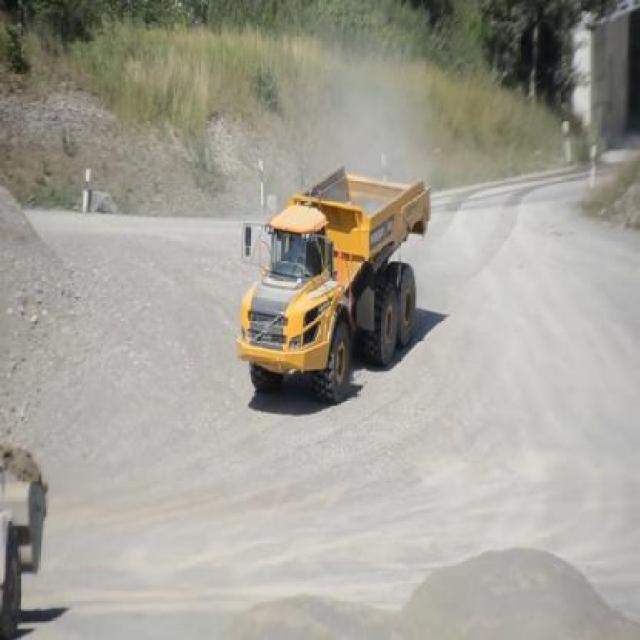Dump Truck: (234, 164, 432, 405)
